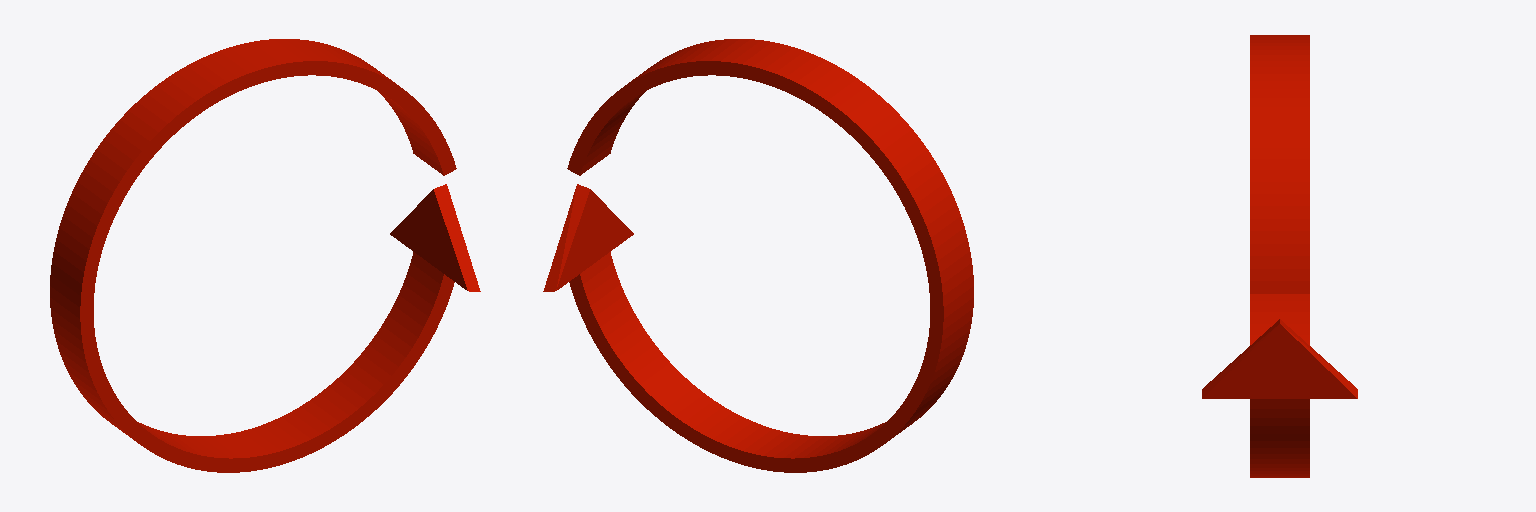
The model's file is arrow.obj.
3 views of the same model, side by side, from view 1: azimuth 30°, elevation 25°; view 2: azimuth 150°, elevation 25°; view 3: azimuth 270°, elevation 25° (orthographic).
Visible parts, largest first — view 1: Cube; view 2: Cube; view 3: Cube.
Boxes of the visible parts, <box> form: Cube: <box>50,39,480,472</box>; Cube: <box>543,39,973,472</box>; Cube: <box>1202,35,1357,477</box>.
Size of the model in its own units: 1.27 by 1.27 by 0.4491.